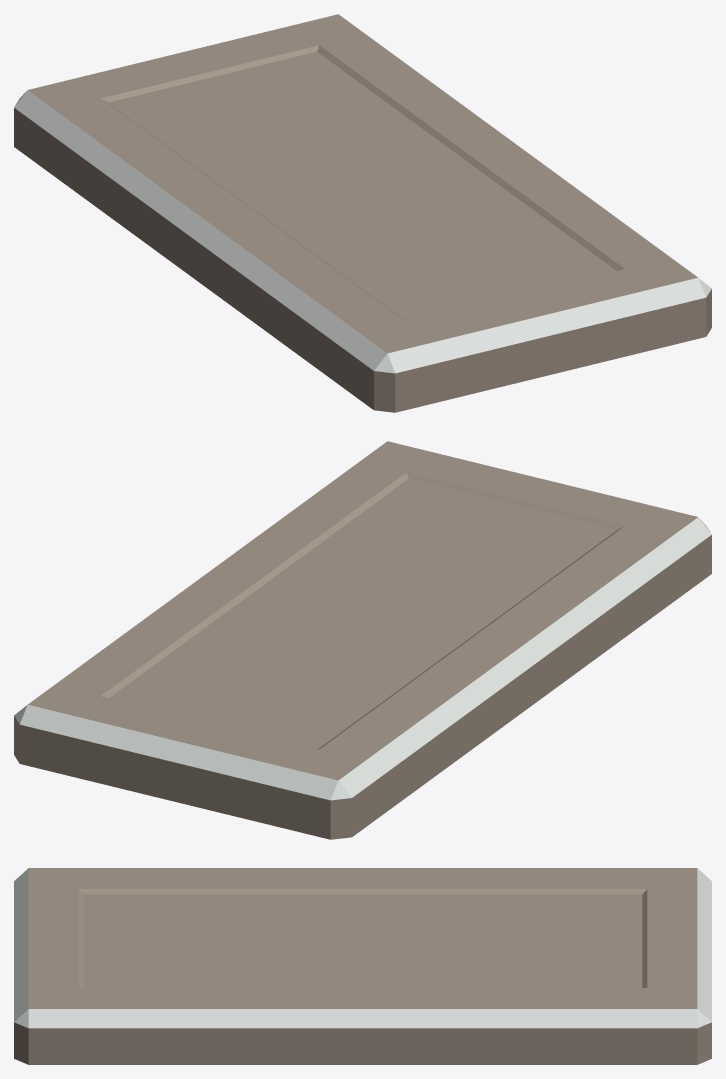
The picture shows the model from 3 angles, top to bottom: view 1: azimuth 30°, elevation 25°; view 2: azimuth 150°, elevation 25°; view 3: azimuth 270°, elevation 25°; orthographic projection. The views are drawn at different scales.
Parts seen in each view (by area): view 1: G:\FFXIV-MapTools\exports\s1f3\bg\ffxiv\sea_s1\fld\s1f3\bgpa (×3); view 2: G:\FFXIV-MapTools\exports\s1f3\bg\ffxiv\sea_s1\fld\s1f3\bgpa (×3); view 3: G:\FFXIV-MapTools\exports\s1f3\bg\ffxiv\sea_s1\fld\s1f3\bgpa (×3).
Boxes of the visible parts, <box> form: G:\FFXIV-MapTools\exports\s1f3\bg\ffxiv\sea_s1\fld\s1f3\bgpa (×3): <box>14,14,711,412</box>; G:\FFXIV-MapTools\exports\s1f3\bg\ffxiv\sea_s1\fld\s1f3\bgpa (×3): <box>14,441,711,839</box>; G:\FFXIV-MapTools\exports\s1f3\bg\ffxiv\sea_s1\fld\s1f3\bgpa (×3): <box>14,868,711,1064</box>.
Bounding box in the file's own units: 6.21 × 0.9409 × 11.96.
